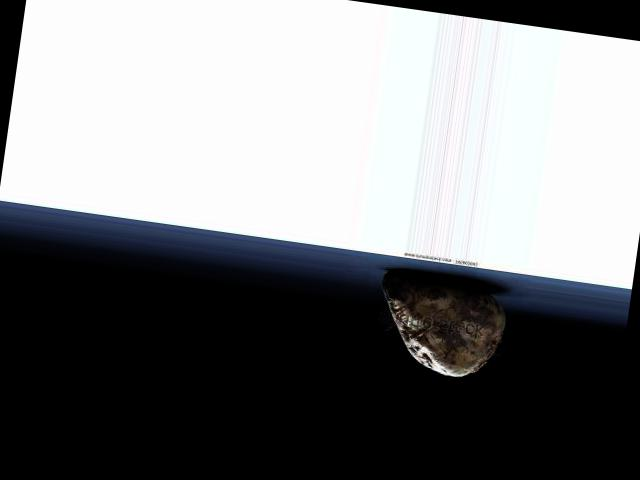beet: (373, 270, 512, 381)
